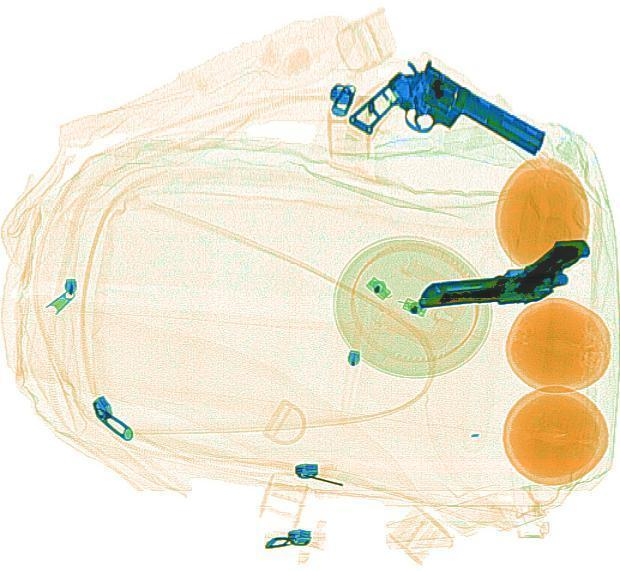Gun: (342, 45, 554, 208), (413, 237, 594, 310)
